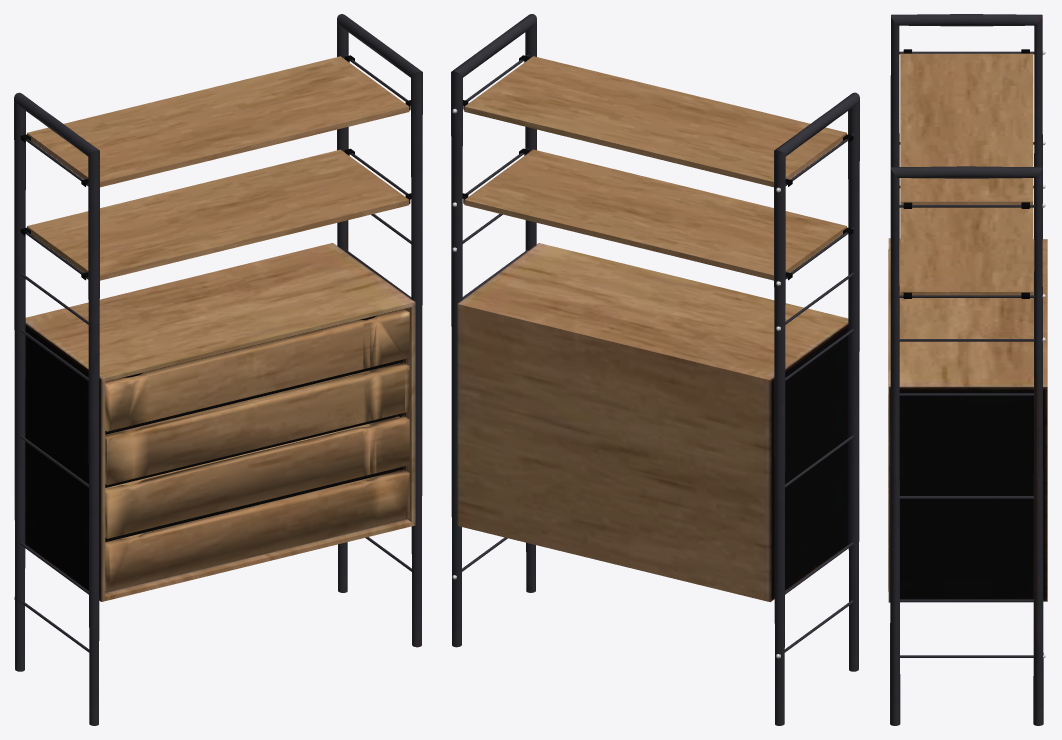
Rendered from prop-drawer-cabinet.glb.
3 views of the same model, side by side, from view 1: azimuth 30°, elevation 25°; view 2: azimuth 150°, elevation 25°; view 3: azimuth 270°, elevation 25° (orthographic). The views are drawn at different scales.
Parts seen in each view (by area): view 1: drawer_cabinet; view 2: drawer_cabinet; view 3: drawer_cabinet.
Boxes of the visible parts, x1=… form: drawer_cabinet: x1=14, y1=14, x2=422, y2=725; drawer_cabinet: x1=451, y1=14, x2=859, y2=725; drawer_cabinet: x1=888, y1=14, x2=1047, y2=725.
Size of the model in its own units: 1.14 by 1.88 by 0.4881.
1 material, 1 textured.
